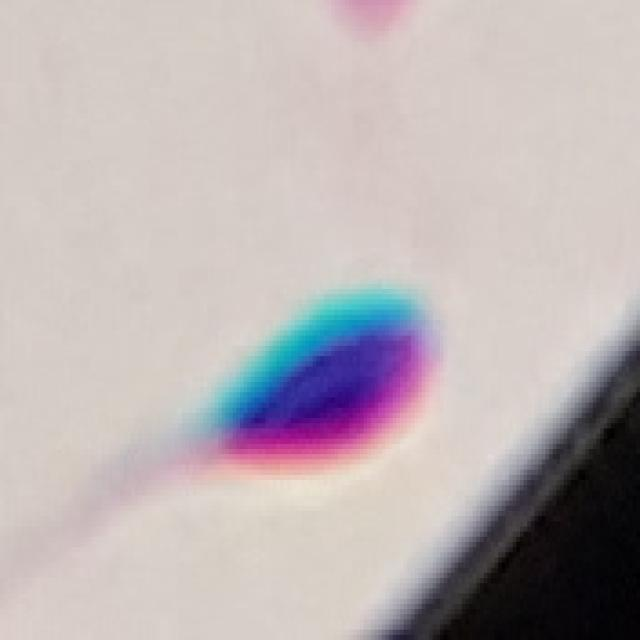abnormal sperm: (68, 249, 463, 541)
